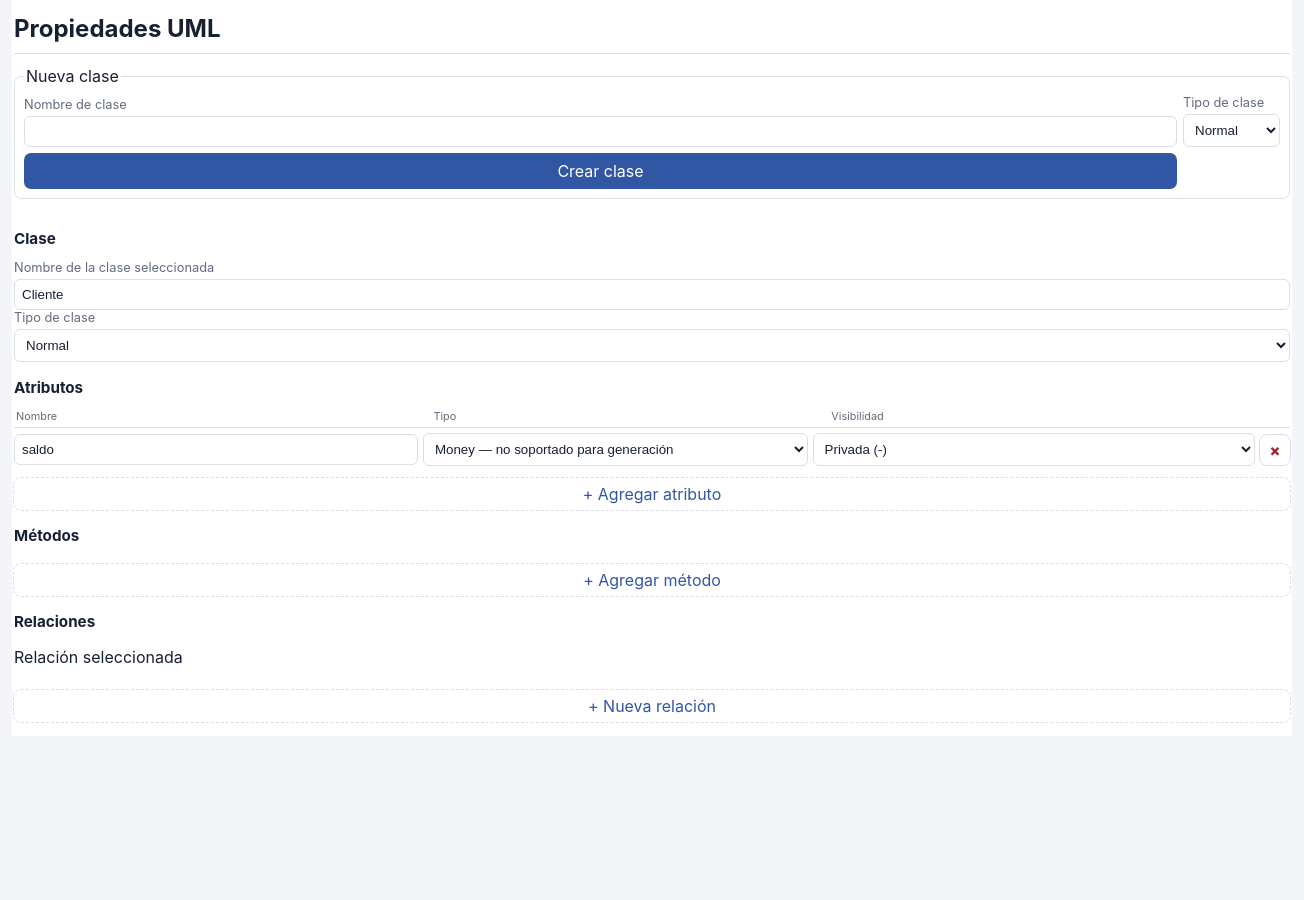
it: InspectorPropiedadesUML compacto › cancelar método no muta y un nombre vacío se rechaza
Click the button "+ Agregar método" at [652, 580], box 14,564 -> 1290,596
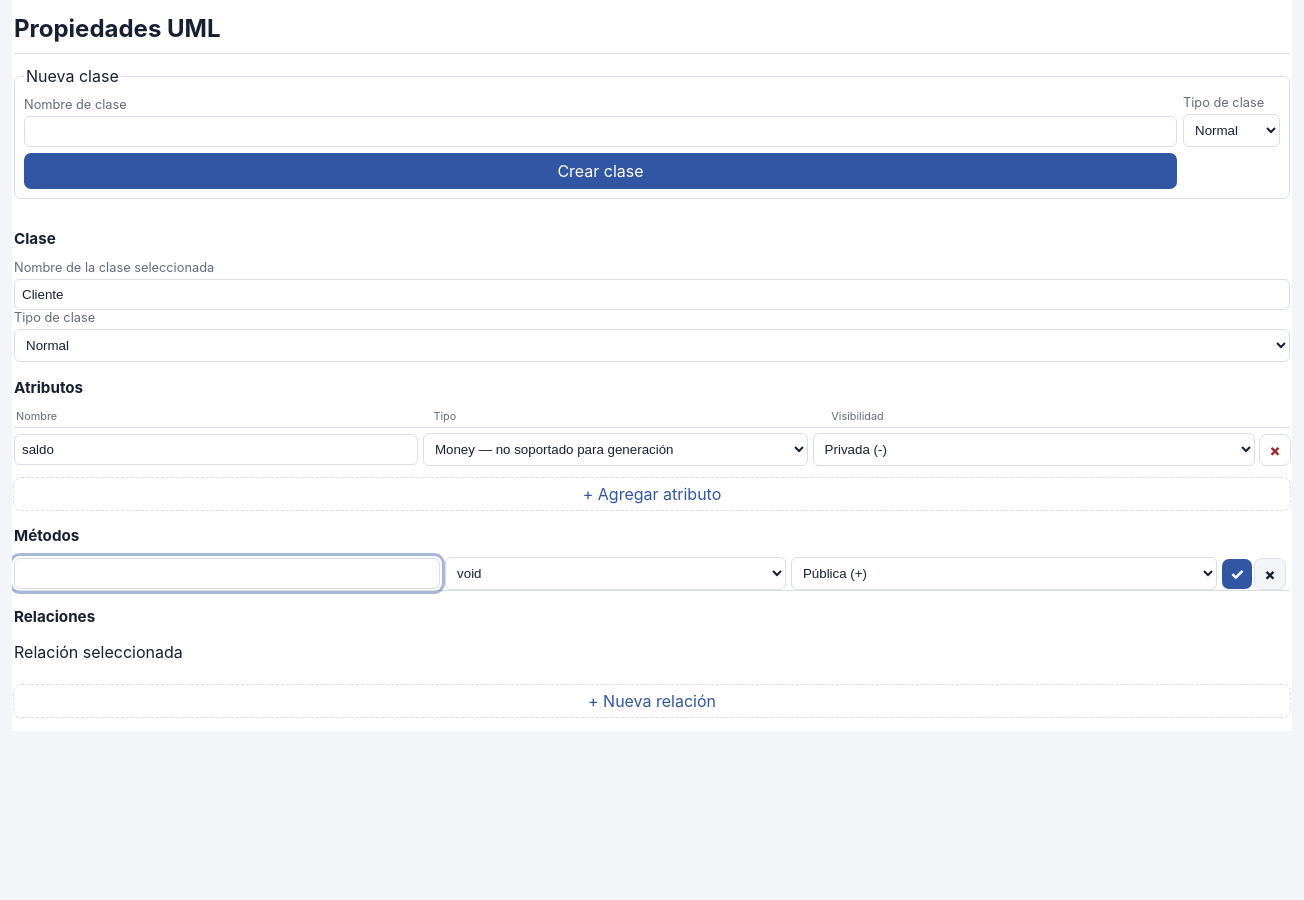
Click the button named "Cancelar" at [1270, 574], box 1255,558 -> 1285,588
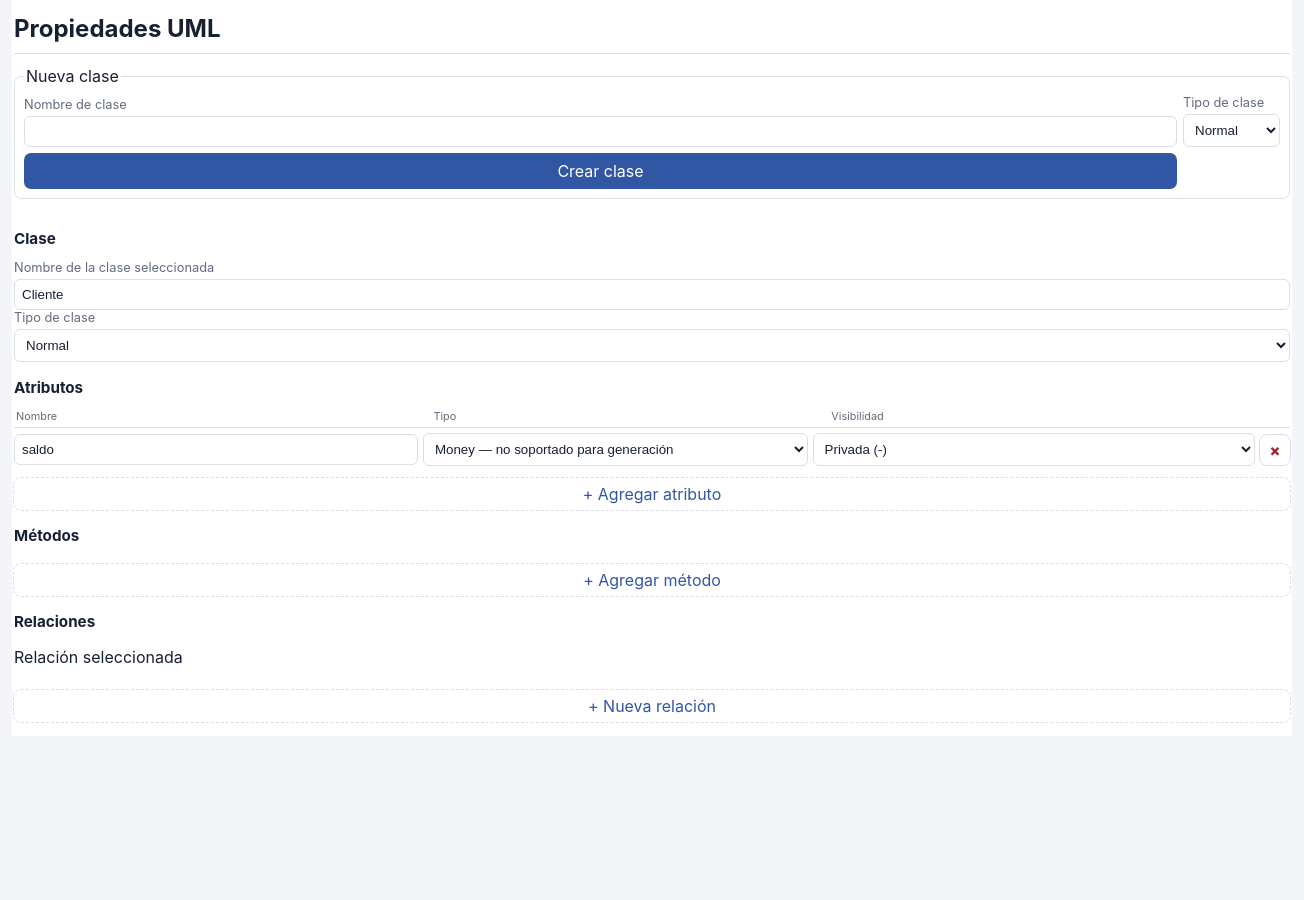
Click the button "+ Agregar método" at [652, 580], box 14,564 -> 1290,596
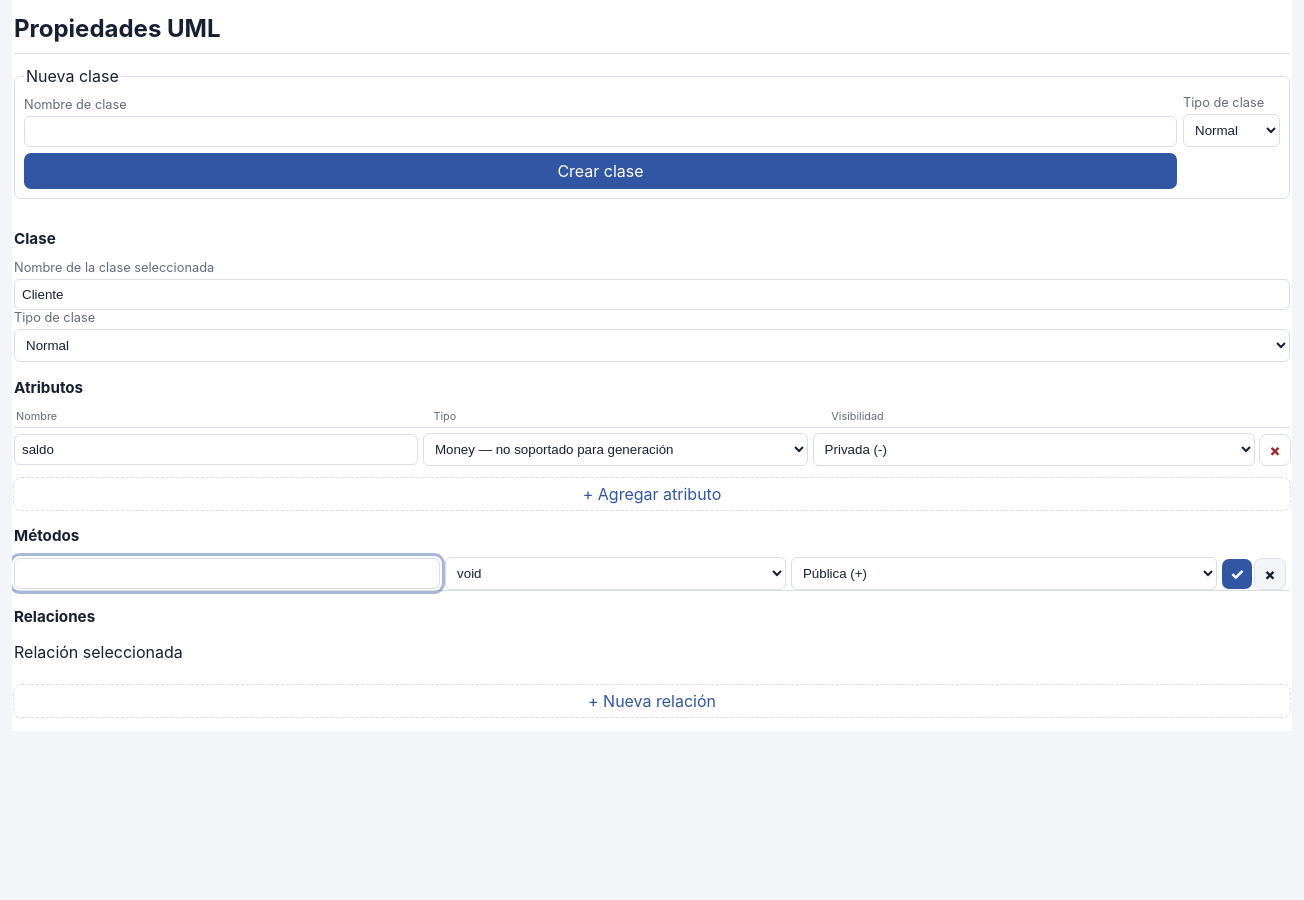
Click the button named "Confirmar método" at [1237, 574], box 1222,558 -> 1252,588
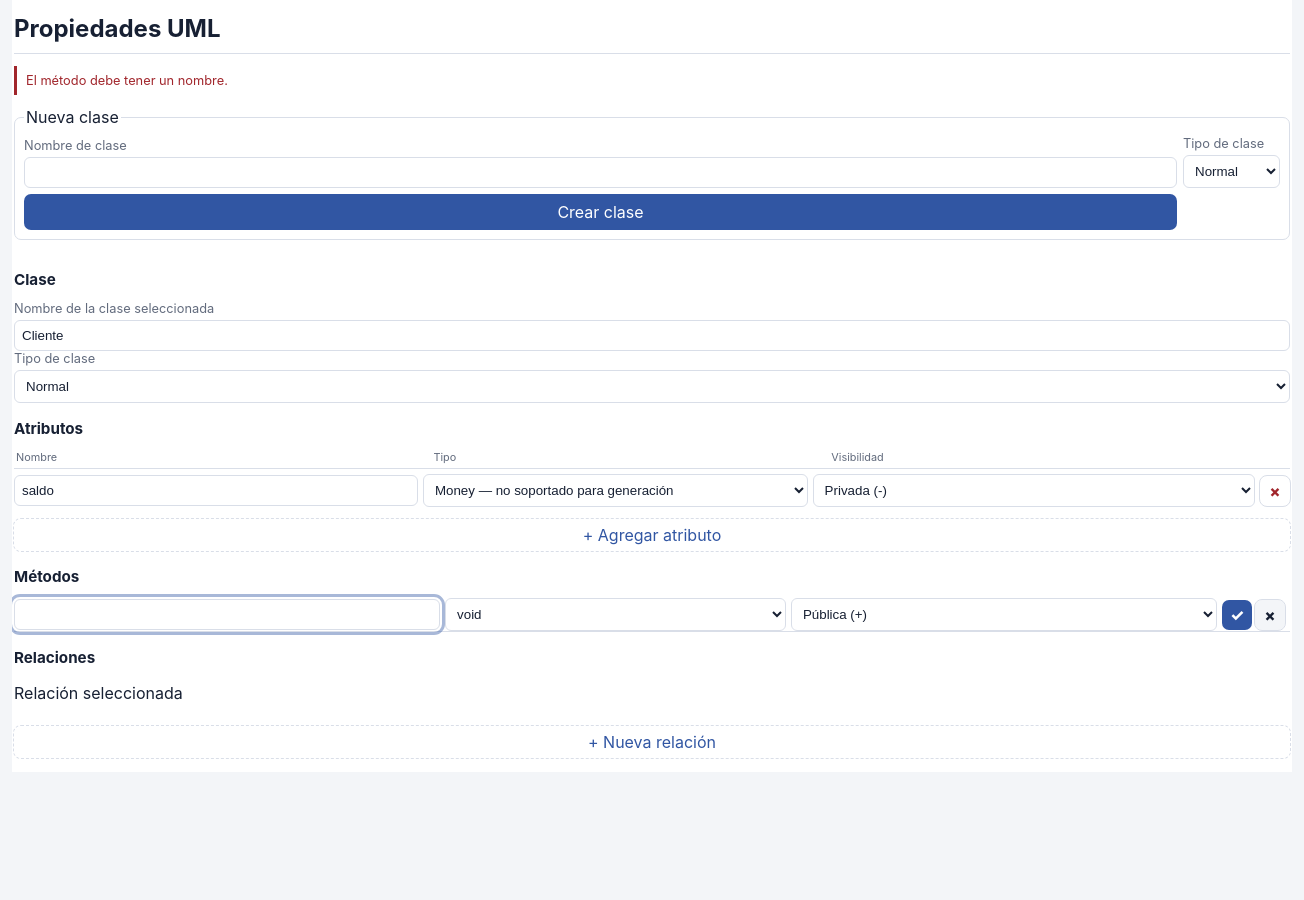
Expected: the message shows "debe tener un nombre", 26,73 -> 228,88
